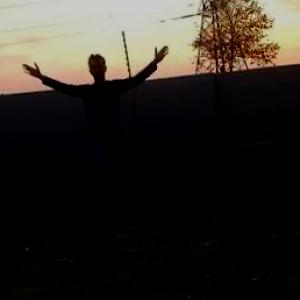takeoff: (35, 37, 201, 226)
